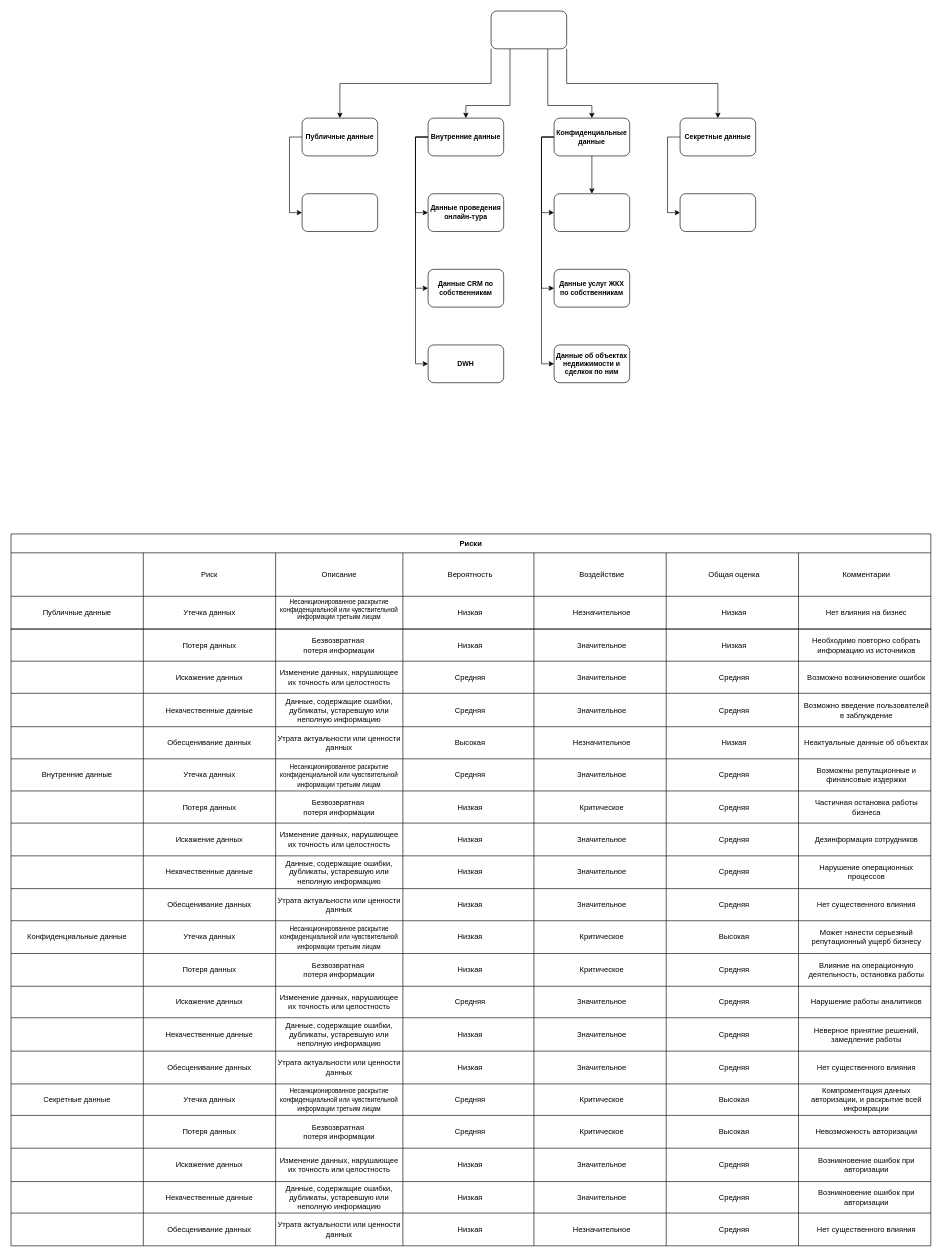
Image size: 942x1257. Some labels were removed from this diagram. The centre of each missing label's shape, as x and y in pixels:
"Безопасность данных" belongs at (x=528, y=29).
"Данные объектов недвижимости" belongs at (x=339, y=212).
"Данные сервиса аутентификации покупателей" belongs at (x=717, y=212).
"Данные системы CRM" belongs at (x=591, y=212).
